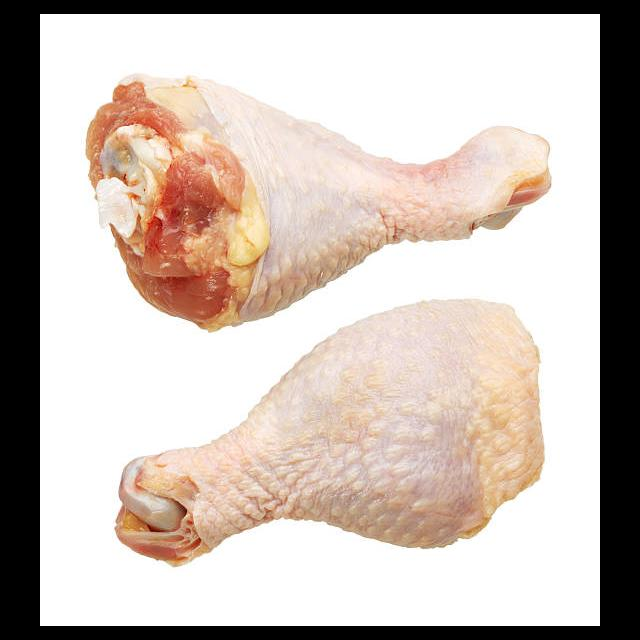chicken: (87, 66, 553, 333), (114, 300, 548, 568)
